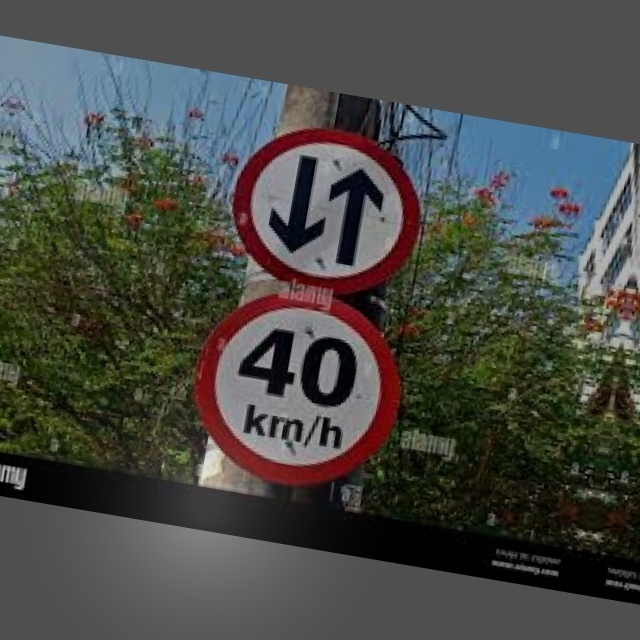Mandatory_Two_Way_Traffic: (225, 119, 430, 301)
